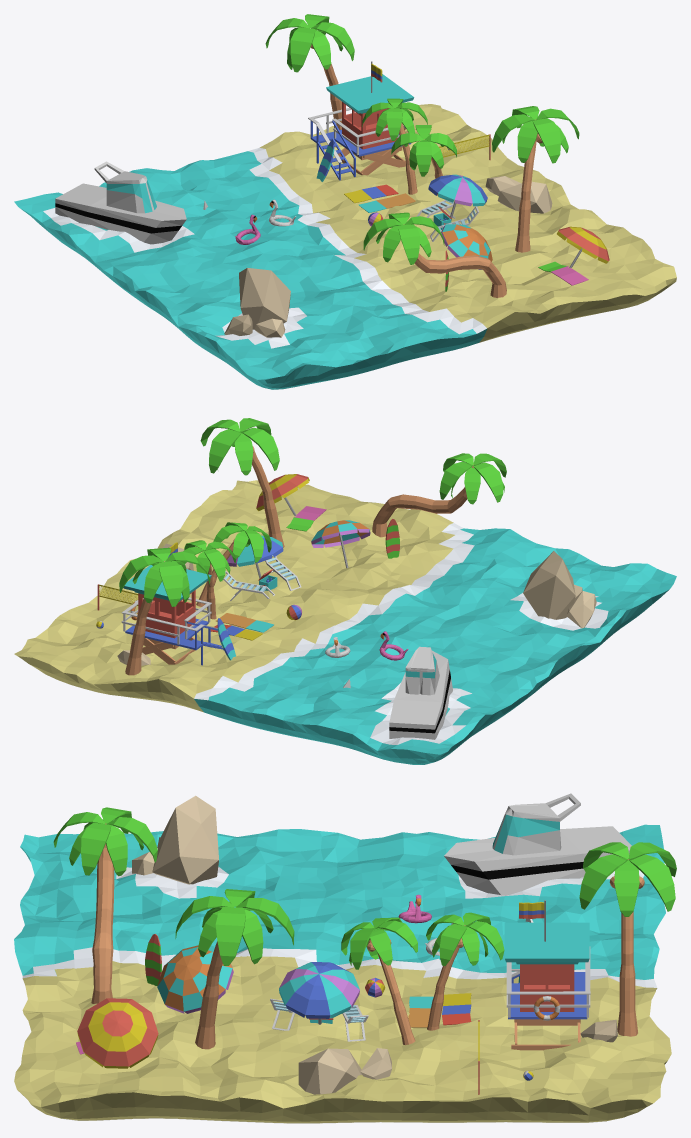
Rendered from Beach Scene.dae.
3 renders of one model, top to bottom at view 1: azimuth 30°, elevation 25°; view 2: azimuth 150°, elevation 25°; view 3: azimuth 270°, elevation 25°, orthographic. The views are drawn at different scales.
Parts seen in each view (by area): view 1: SEA, SAND, FOAM, YACHT, CABIN, ROCKS, PALM1, PALM5, PALM4, PALM2, PALM3, UMBRELLA1 (+4 smaller); view 2: SEA, SAND, FOAM, CABIN, YACHT, PALM5, PALM1, PALM4, ROCKS, PALM3, PALM2, UMBRELLA3 (+5 smaller); view 3: SAND, SEA, YACHT, CABIN, ROCKS, PALM4, PALM5, PALM1, FOAM, UMBRELLA2, UMBRELLA1, PALM2 (+6 smaller).
Boxes of the visible parts, x1,y1,x2,y2 form: SEA: (14, 151, 487, 389); SAND: (260, 104, 676, 342); FOAM: (43, 147, 486, 348); YACHT: (55, 161, 186, 244); CABIN: (308, 74, 414, 180); ROCKS: (224, 176, 552, 337); PALM1: (492, 106, 579, 252); PALM5: (363, 212, 506, 297); PALM4: (265, 14, 354, 129); PALM2: (362, 98, 427, 194); PALM3: (391, 125, 456, 195); UMBRELLA1: (428, 174, 487, 220); SEA: (194, 528, 676, 764); SAND: (14, 480, 454, 712); FOAM: (194, 523, 608, 744); CABIN: (121, 565, 227, 665); YACHT: (389, 646, 452, 739); PALM5: (372, 453, 506, 537); PALM1: (200, 418, 284, 547); PALM4: (119, 547, 210, 675); ROCKS: (117, 543, 596, 665); PALM3: (196, 522, 271, 606); PALM2: (181, 540, 236, 619); UMBRELLA3: (311, 520, 370, 568); SAND: (14, 956, 671, 1123); SEA: (14, 824, 665, 979); YACHT: (444, 793, 631, 895); CABIN: (504, 922, 590, 1050); ROCKS: (132, 795, 617, 1094); PALM4: (579, 842, 676, 1036); PALM5: (53, 807, 157, 1003); PALM1: (175, 889, 294, 1049); FOAM: (22, 848, 657, 987); UMBRELLA2: (77, 998, 158, 1068); UMBRELLA1: (279, 962, 359, 1024); PALM2: (426, 912, 504, 1030).
Bounding box in the file's own units: 125 × 127 × 42.74.
